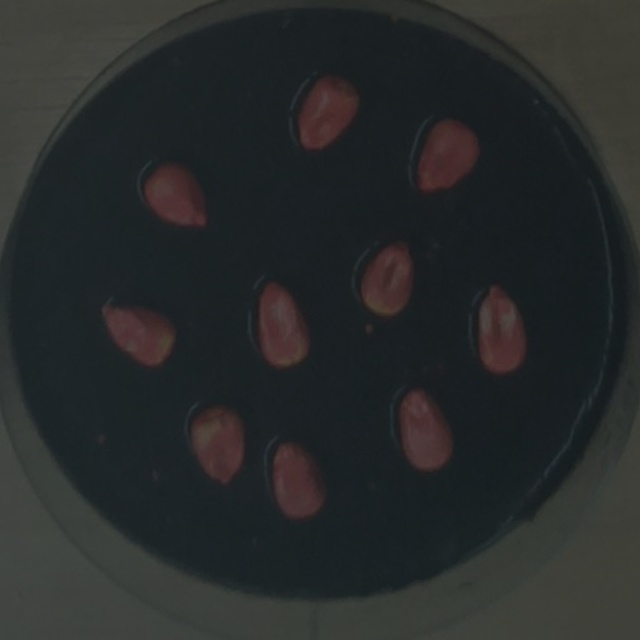Zea mays: (248, 271, 320, 375), (405, 110, 487, 201), (93, 292, 182, 373), (288, 65, 366, 157), (392, 376, 460, 477), (468, 277, 534, 379), (135, 152, 214, 235), (265, 431, 334, 526), (183, 396, 252, 490), (352, 230, 421, 322)
